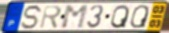3: (85, 4, 104, 30)
M: (60, 4, 89, 30)
Q: (110, 4, 131, 30), (129, 4, 150, 29)
R: (39, 4, 64, 30)
S: (20, 4, 44, 31)
